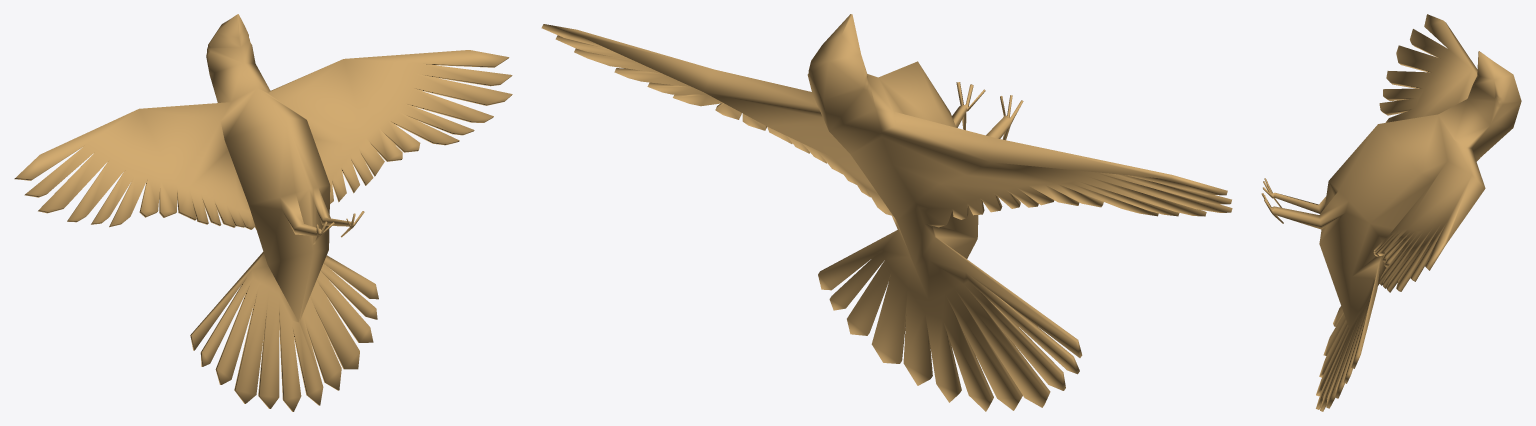
File: pigeon_crumb_goblin.glb
3 renders of one model, left to right at view 1: azimuth 30°, elevation 25°; view 2: azimuth 150°, elevation 25°; view 3: azimuth 270°, elevation 25°, orthographic. The views are drawn at different scales.
Parts seen in each view (by area): view 1: pigeon_crumb_goblin; view 2: pigeon_crumb_goblin; view 3: pigeon_crumb_goblin.
Boxes of the visible parts, bbox=[...] form: pigeon_crumb_goblin: bbox=[14, 14, 512, 411]; pigeon_crumb_goblin: bbox=[541, 14, 1232, 411]; pigeon_crumb_goblin: bbox=[1261, 14, 1521, 411].
Size of the model in its own units: 0.55 by 0.3585 by 0.2374.
